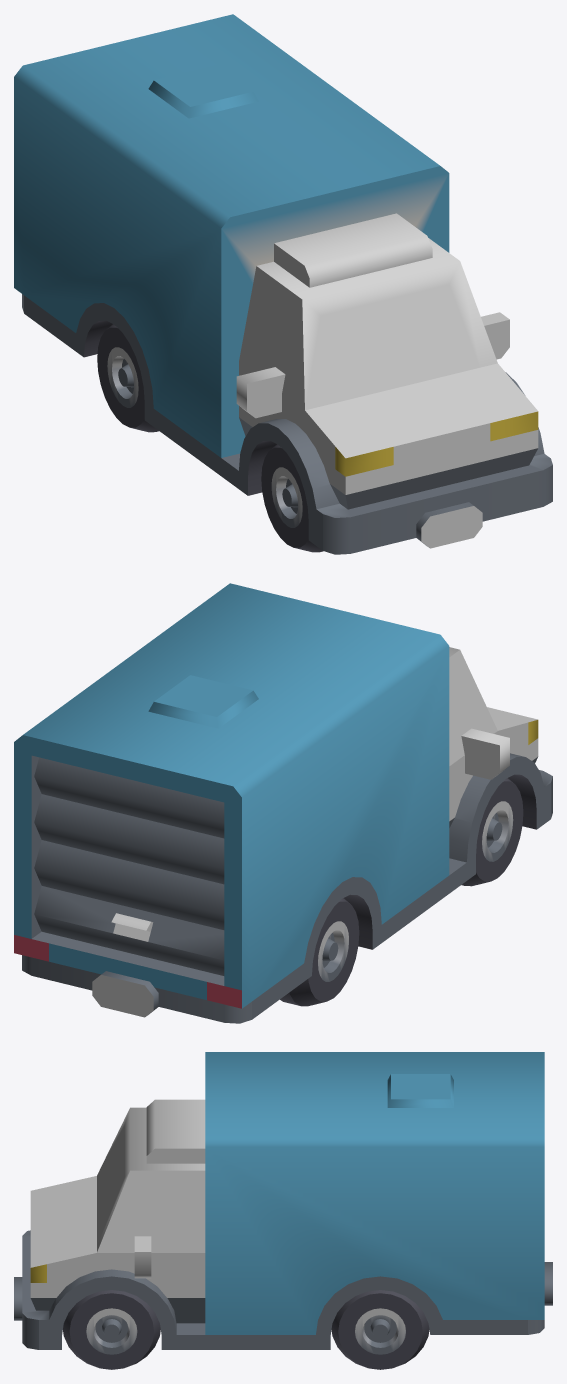
The model's file is bus.glb.
3 renders of one model, top to bottom at view 1: azimuth 30°, elevation 25°; view 2: azimuth 150°, elevation 25°; view 3: azimuth 270°, elevation 25°, orthographic. The views are drawn at different scales.
Parts seen in each view (by area): view 1: bus; view 2: bus; view 3: bus.
Part boxes in pixels (x1,y1,x2,y2): bus: [14, 14, 552, 554]; bus: [14, 583, 552, 1023]; bus: [14, 1052, 552, 1369].
Bounding box in the file's own units: 0.5249 × 0.5776 × 1.14.
